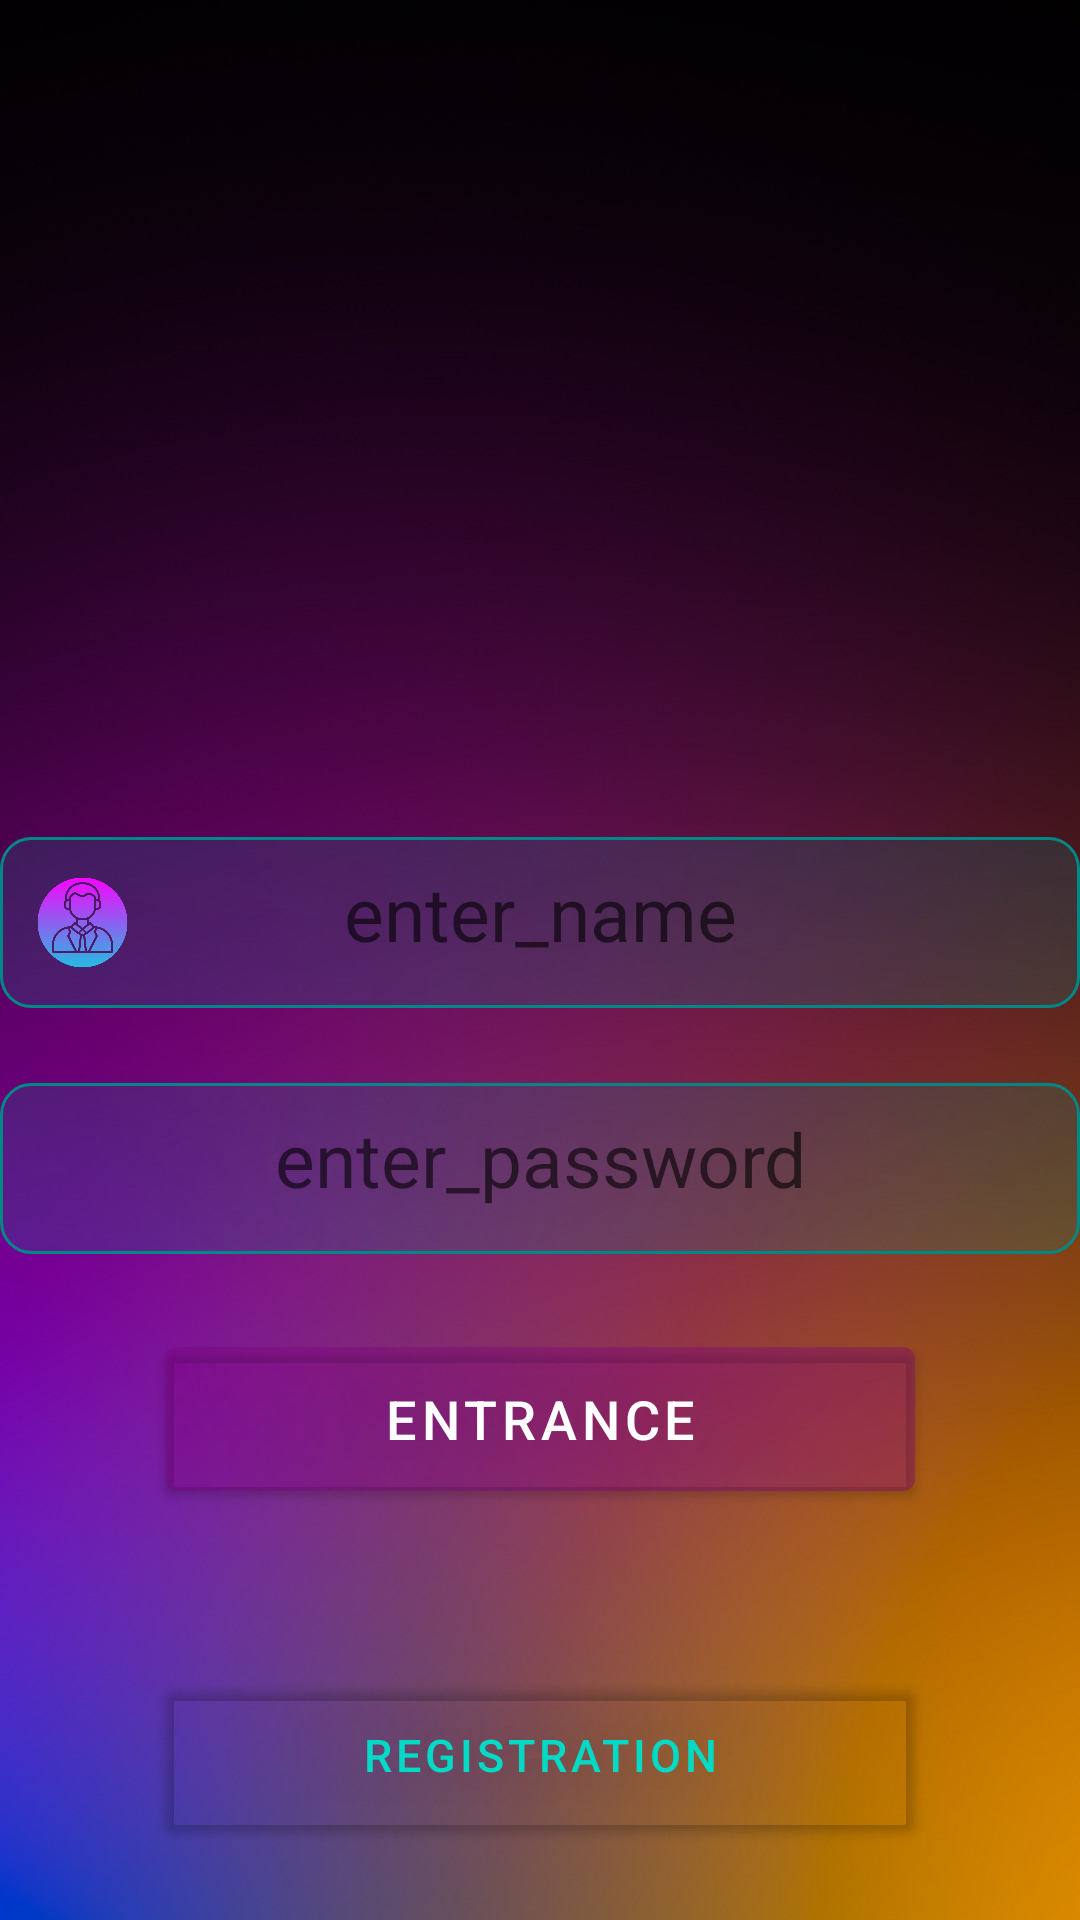

Locate icon controls on the screen. Image size 1080x1920, boxes as region(x1, y1, x2, y2).
account: region(38, 878, 127, 967)
